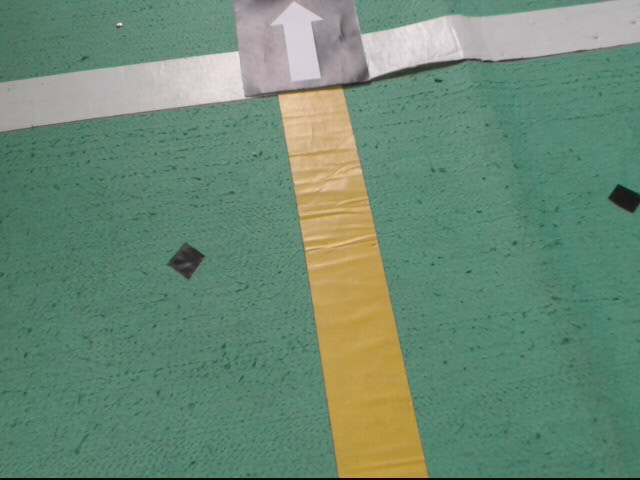straight: (234, 1, 371, 100)
